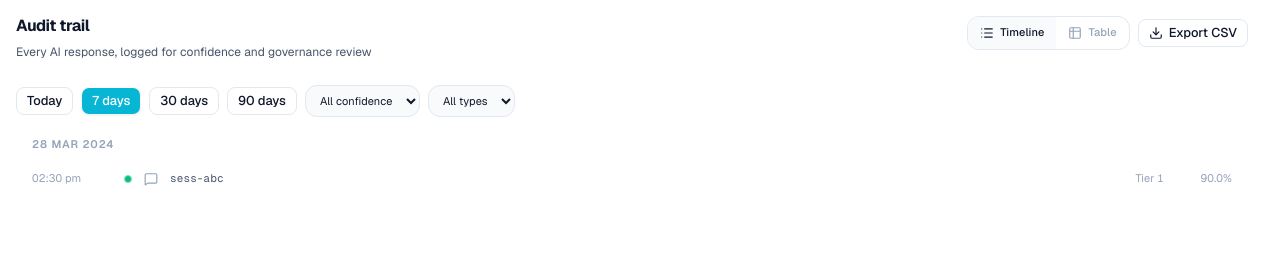
AuditTrailPage › switches to the table view and renders DataTable columns
Click the button "Table": coordinates (1093, 33) [1056,17,1129,49]
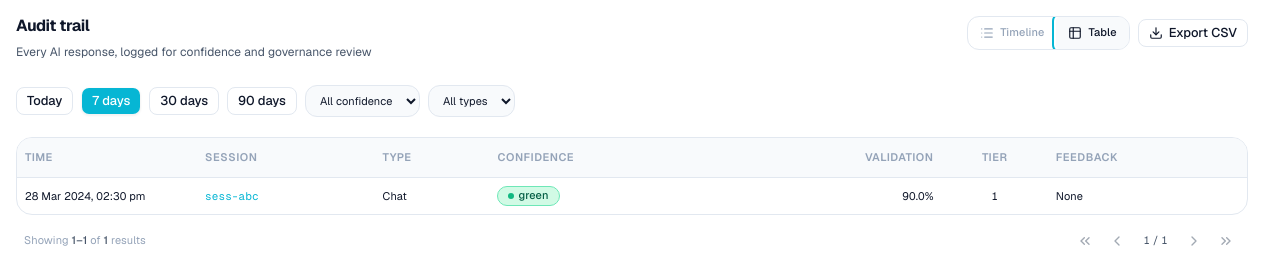
expect the column heading "Session" is shown: met, box [197,138,375,178]
expect the column heading "Confidence" is shown: met, box [490,138,726,178]
